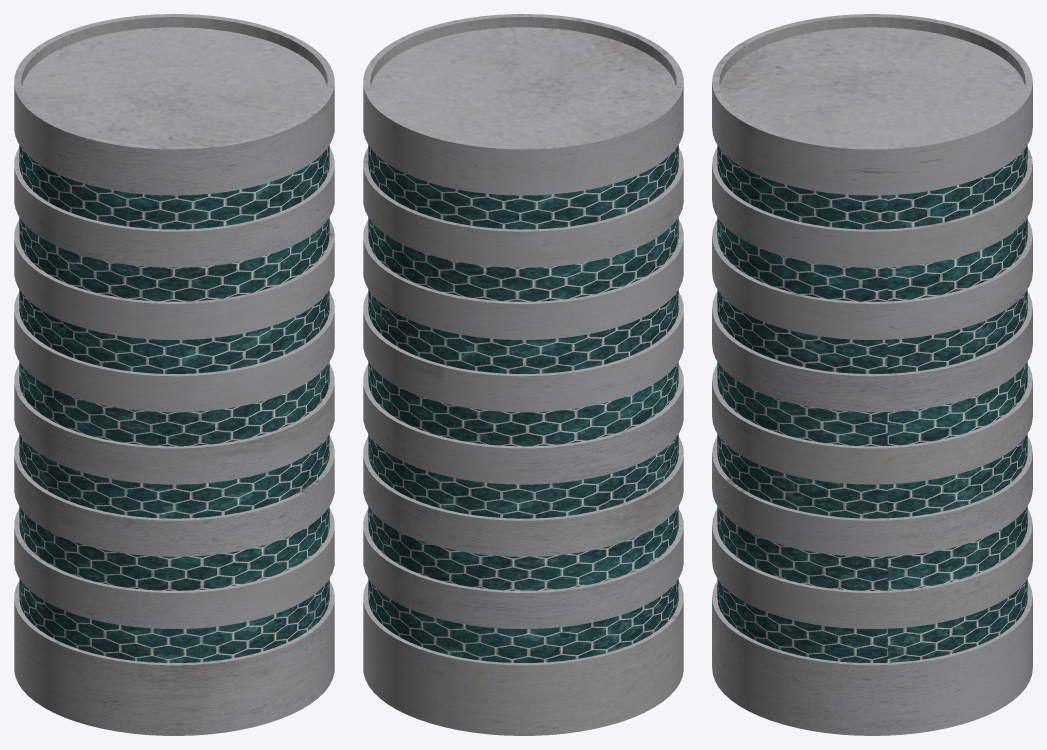
The model's file is enty.fbx.
The picture shows the model from 3 angles, left to right: view 1: azimuth 30°, elevation 25°; view 2: azimuth 150°, elevation 25°; view 3: azimuth 270°, elevation 25°; orthographic projection.
Parts seen in each view (by area): view 1: pCylinder1; view 2: pCylinder1; view 3: pCylinder1.
Boxes of the visible parts, <box> form: pCylinder1: <box>14,14,334,735</box>; pCylinder1: <box>363,14,683,735</box>; pCylinder1: <box>712,14,1032,735</box>.
Size of the model in its own units: 30.26 by 61.05 by 30.26.
